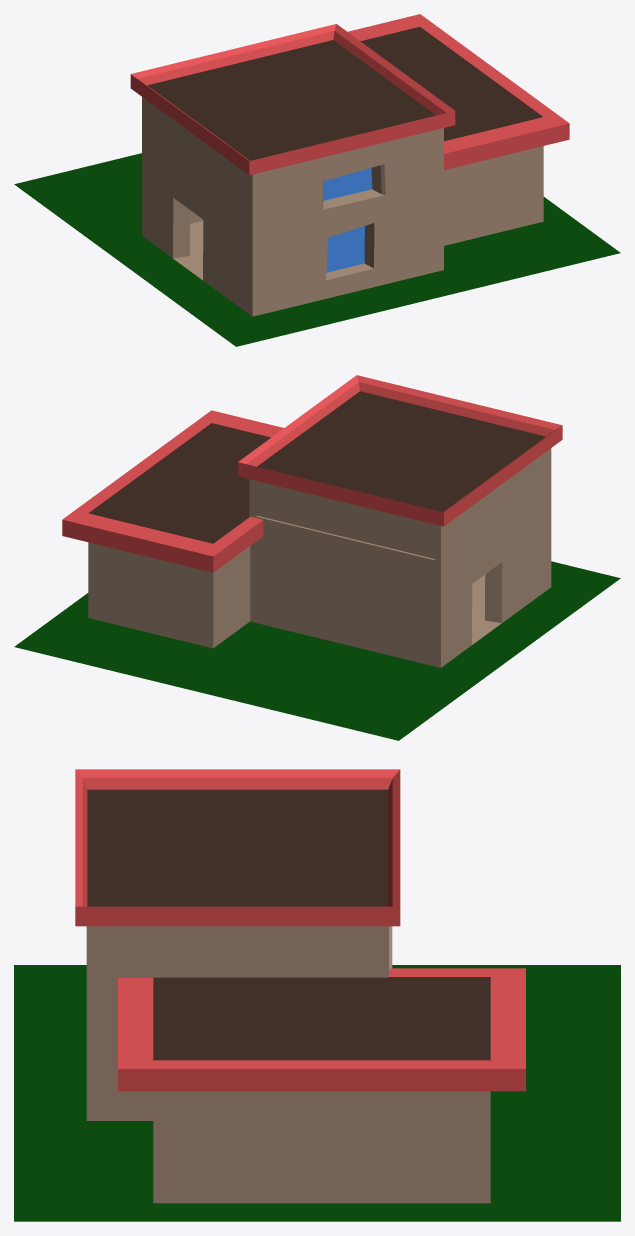
File: house_demo1.gltf
The picture shows the model from 3 angles, top to bottom: view 1: azimuth 30°, elevation 25°; view 2: azimuth 150°, elevation 25°; view 3: azimuth 270°, elevation 25°; orthographic projection. The views are drawn at different scales.
Parts seen in each view (by area): view 1: Cube.001, Plane.001; view 2: Cube.001, Plane.001; view 3: Cube.001, Plane.001.
Part boxes in pixels (box(x1,y1,x2,y2)): Cube.001: box(130, 14, 569, 316); Plane.001: box(14, 153, 620, 346); Cube.001: box(62, 375, 562, 667); Plane.001: box(14, 561, 620, 740); Cube.001: box(75, 769, 525, 1203); Plane.001: box(14, 965, 620, 1221).
Bounding box in the file's own units: 4 × 1.6 × 4.
